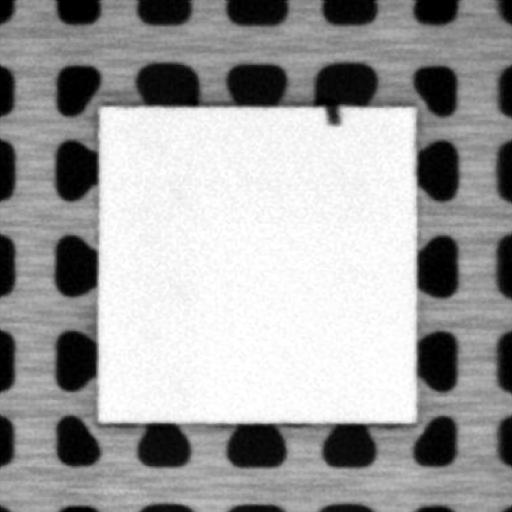DIE_INK: (322, 101, 342, 126)
